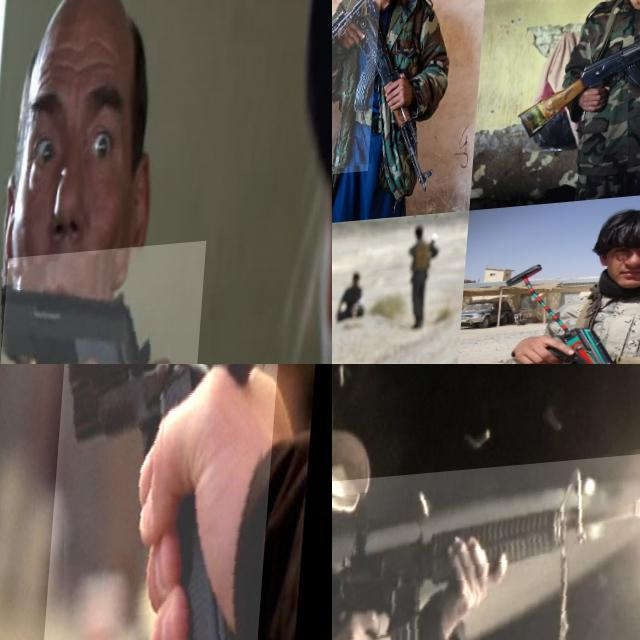gun-knife-thesis - v11 Yolov5 augmented: (46, 364, 292, 640), (332, 464, 640, 640), (0, 248, 210, 364), (332, 0, 448, 203), (519, 0, 640, 144), (495, 258, 640, 364), (332, 0, 412, 185)
